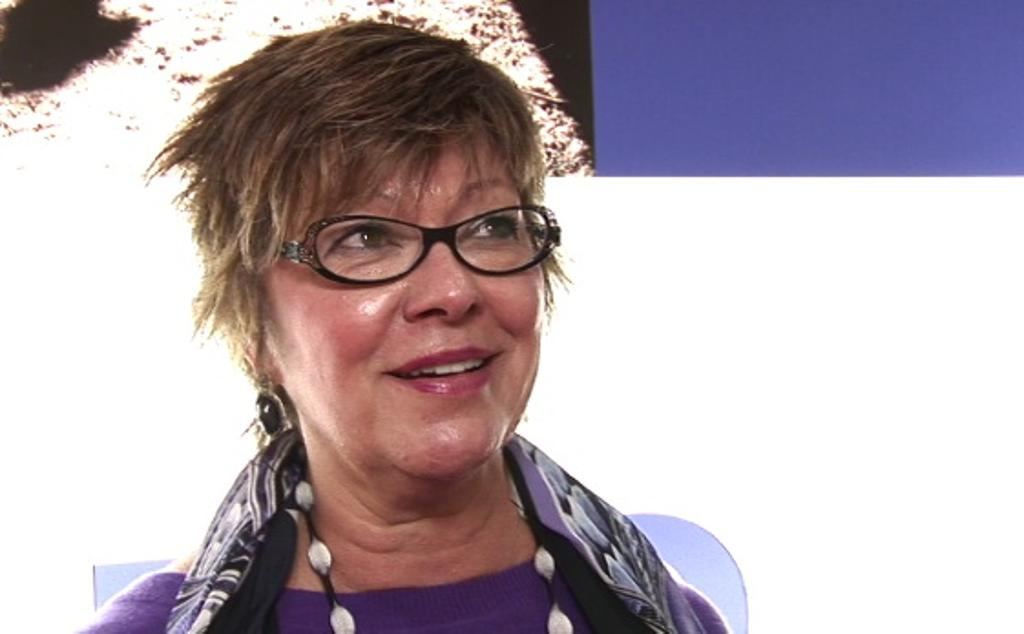face: (290, 116, 530, 460)
